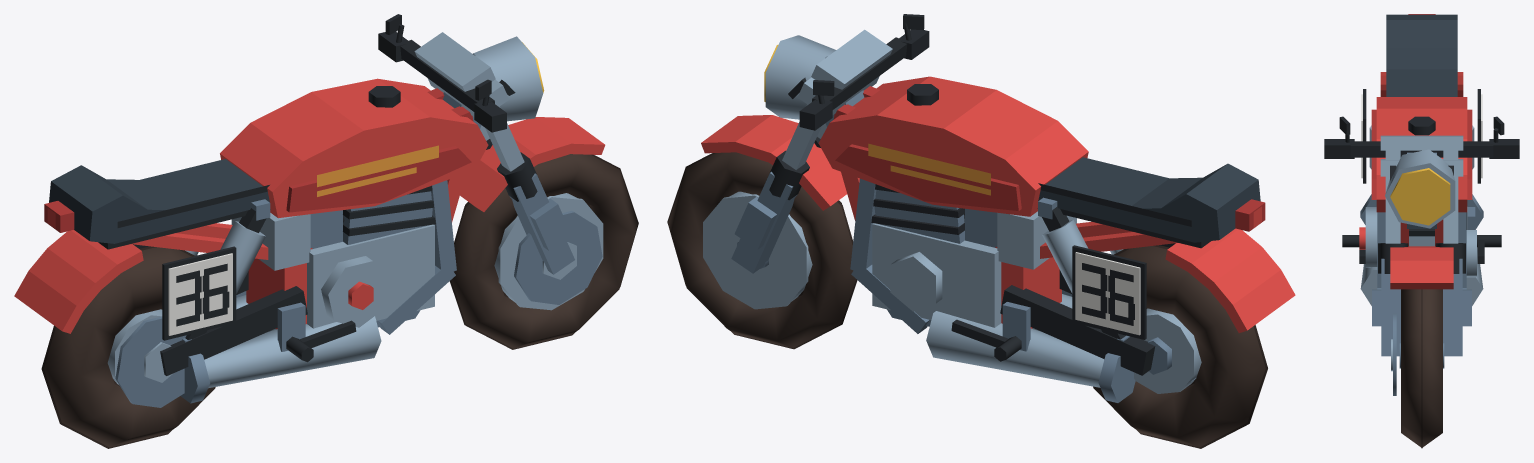
Rendered from cafe-racer.glb.
3 renders of one model, left to right at view 1: azimuth 30°, elevation 25°; view 2: azimuth 150°, elevation 25°; view 3: azimuth 270°, elevation 25°, orthographic. The views are drawn at different scales.
Visible parts, largest first — view 1: tankBody, frontWheel_tire, rearWheel_tire, seatPad, rearGuard, crankcase, silencerL, frontGuard, tankFlankL, frontWheel_disc, swingarmL, rearWheel_disc (+35 smaller); view 2: tankBody, frontWheel_tire, rearWheel_tire, seatPad, crankcase, frontWheel_rim, rearGuard, silencerR, frontGuard, tankFlankR, swingarmR, headlampShell (+33 smaller); view 3: frontWheel_tire, seatPad, tankBody, frontGuard, headlampLens, headlampShell, forkSliderR, upperYoke, forkSliderL, handlebar, forkStanchionR, clutchCover (+26 smaller).
Boxes of the visible parts, bbox=[...] form: tankBody: bbox=[220, 78, 488, 218]; frontWheel_tire: bbox=[451, 154, 637, 348]; rearWheel_tire: bbox=[44, 247, 215, 447]; seatPad: bbox=[49, 159, 269, 243]; rearGuard: bbox=[14, 230, 143, 333]; crankcase: bbox=[307, 224, 434, 328]; silencerL: bbox=[204, 316, 381, 388]; frontGuard: bbox=[460, 117, 605, 211]; tankFlankL: bbox=[286, 146, 471, 212]; frontWheel_disc: bbox=[514, 210, 602, 304]; swingarmL: bbox=[160, 286, 307, 375]; rearWheel_disc: bbox=[115, 316, 186, 407]; tankBody: bbox=[818, 76, 1088, 216]; frontWheel_tire: bbox=[668, 152, 855, 348]; rearWheel_tire: bbox=[1093, 246, 1265, 447]; seatPad: bbox=[1038, 157, 1260, 242]; crankcase: bbox=[872, 223, 1001, 327]; frontWheel_rim: bbox=[703, 191, 812, 309]; rearGuard: bbox=[1165, 228, 1295, 332]; silencerR: bbox=[926, 311, 1104, 387]; frontGuard: bbox=[701, 115, 847, 210]; tankFlankR: bbox=[835, 144, 1021, 210]; swingarmR: bbox=[1000, 285, 1155, 375]; headlampShell: bbox=[765, 35, 836, 119]; frontWheel_tire: bbox=[1401, 289, 1442, 447]; seatPad: bbox=[1386, 14, 1457, 96]; tankBody: bbox=[1376, 97, 1467, 212]; frontGuard: bbox=[1390, 246, 1453, 289]; headlampLens: bbox=[1390, 168, 1450, 225]; headlampShell: bbox=[1385, 149, 1455, 228]; forkSliderR: bbox=[1443, 258, 1462, 356]; upperYoke: bbox=[1380, 135, 1463, 150]; forkSliderL: bbox=[1381, 258, 1400, 356]; handlebar: bbox=[1350, 141, 1493, 157]; forkStanchionR: bbox=[1443, 150, 1458, 243]; clutchCover: bbox=[1365, 207, 1377, 267].
Size of the model in its own units: 2.17 by 1.1 by 0.71.
